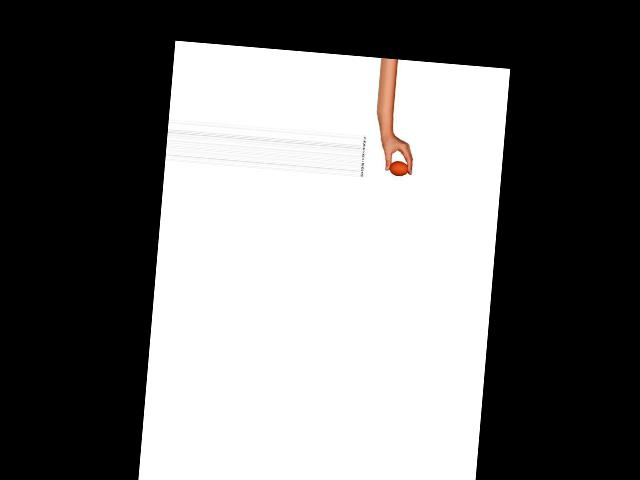egg: (388, 161, 409, 177)
